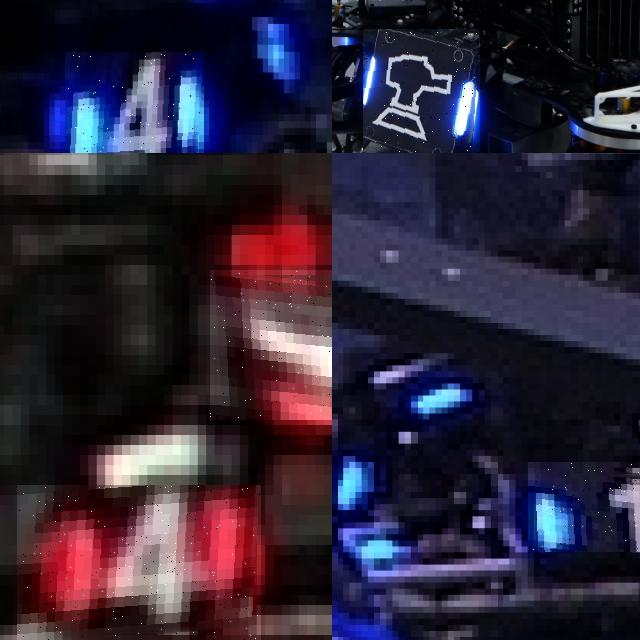B1: (528, 461, 640, 552)
B4: (65, 52, 203, 153)
Bs: (363, 29, 479, 153)
R4: (17, 485, 261, 640), (210, 270, 332, 420)
